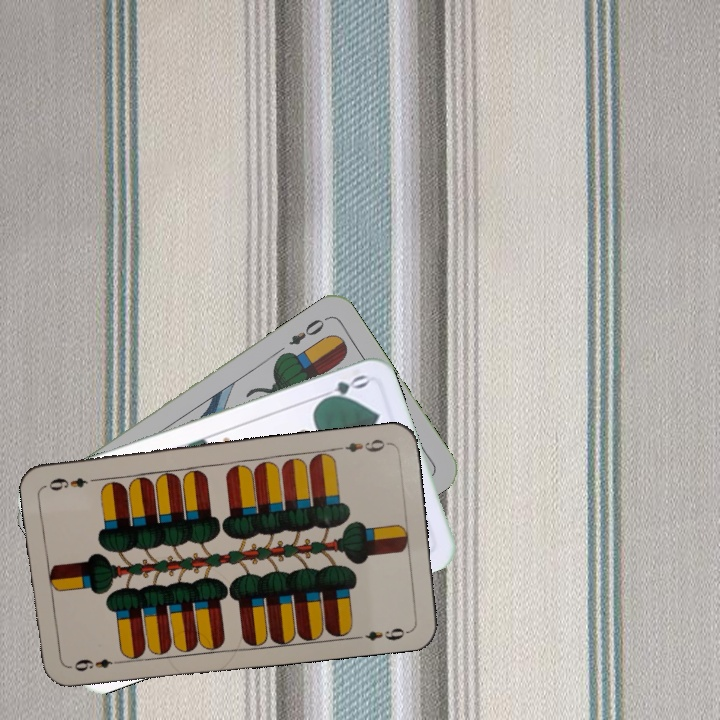E9: (332, 434, 391, 455), (70, 654, 123, 674)
EO: (285, 313, 330, 348)
GO: (313, 370, 371, 406)
